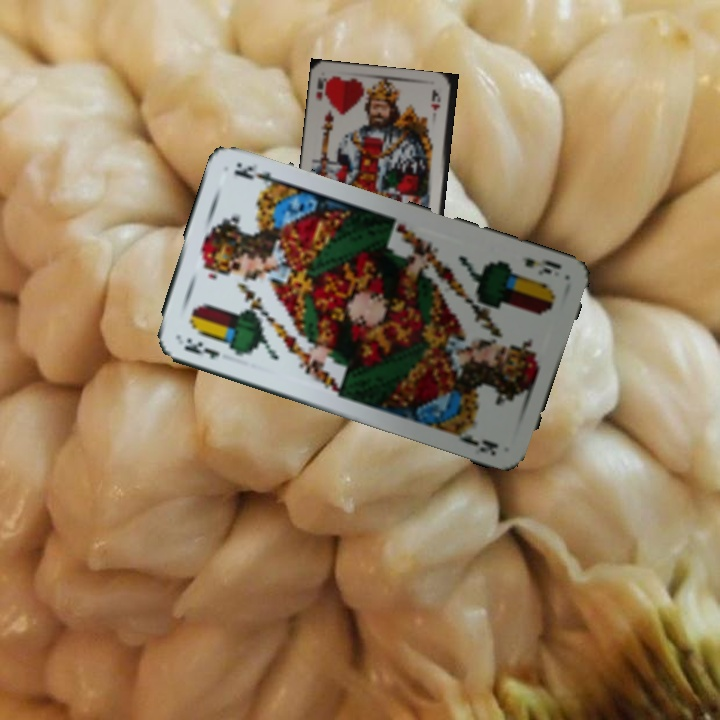EK: (180, 333, 223, 362), (517, 253, 565, 278)
HK: (312, 74, 332, 103)
